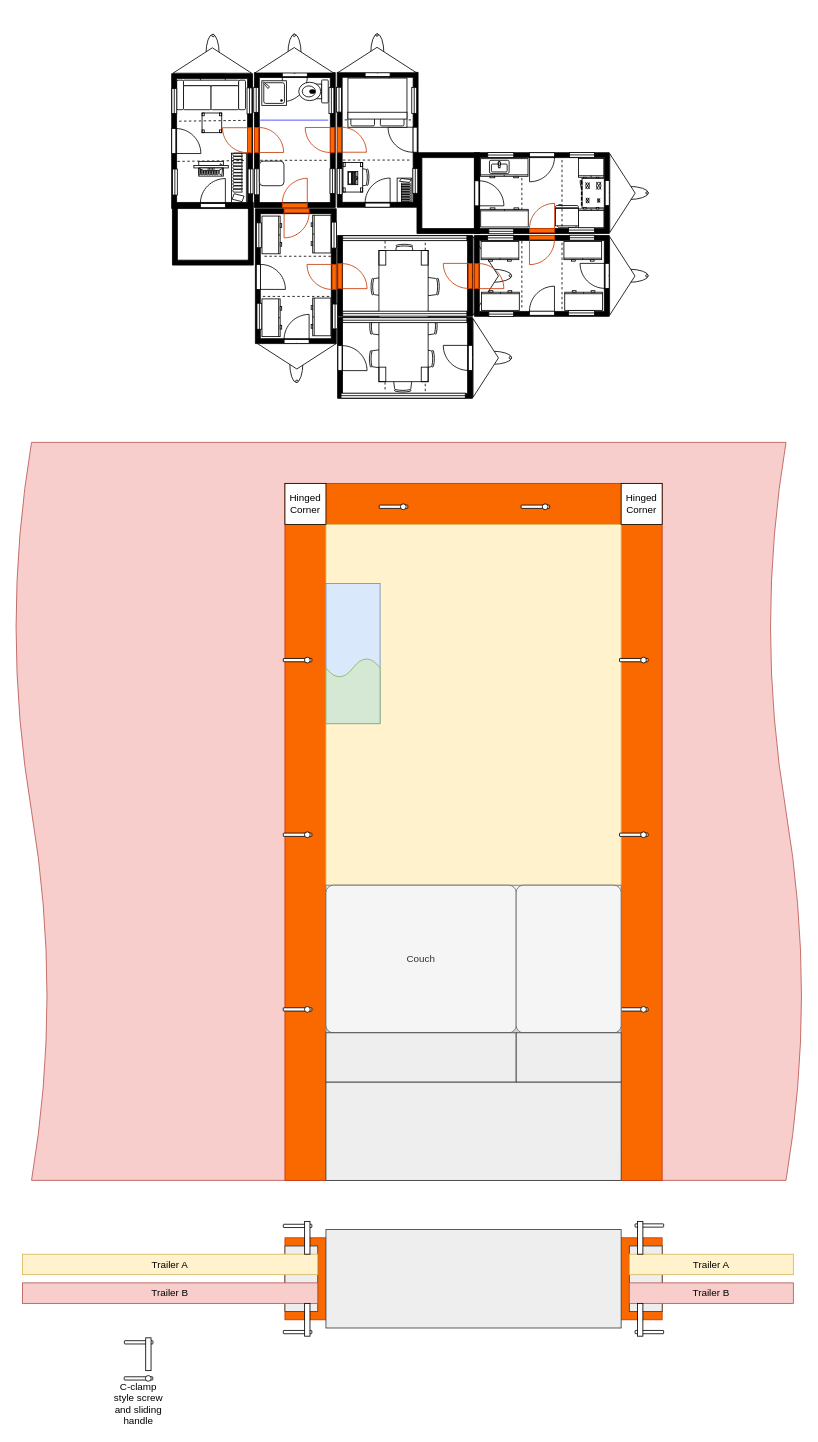
Some shapes in this 818 by 1442 pixel diagram are drawn without their labels. The shapes that lost their labels are listed below. From the top down, each one's box as (x1, y1, x2, y2) in pixels, then its label:
(259, 160, 284, 186): W/D
(325, 583, 380, 724): Window
